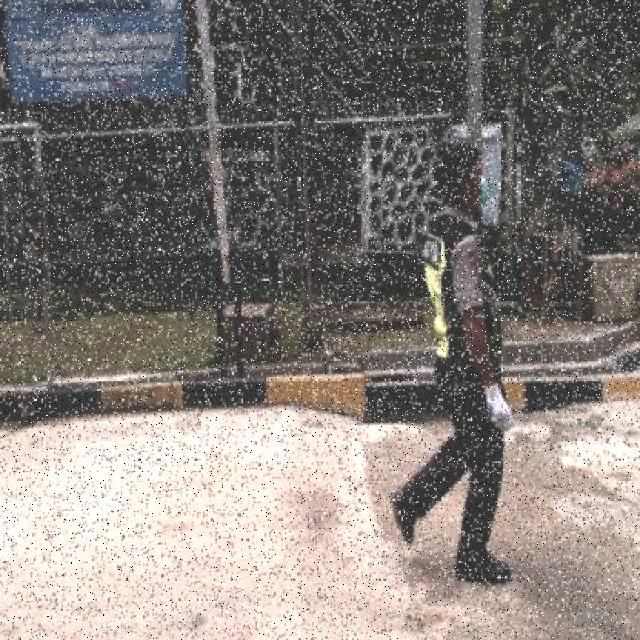Boots: (454, 548, 514, 586), (388, 483, 419, 551)
Gloves: (482, 378, 520, 437)
